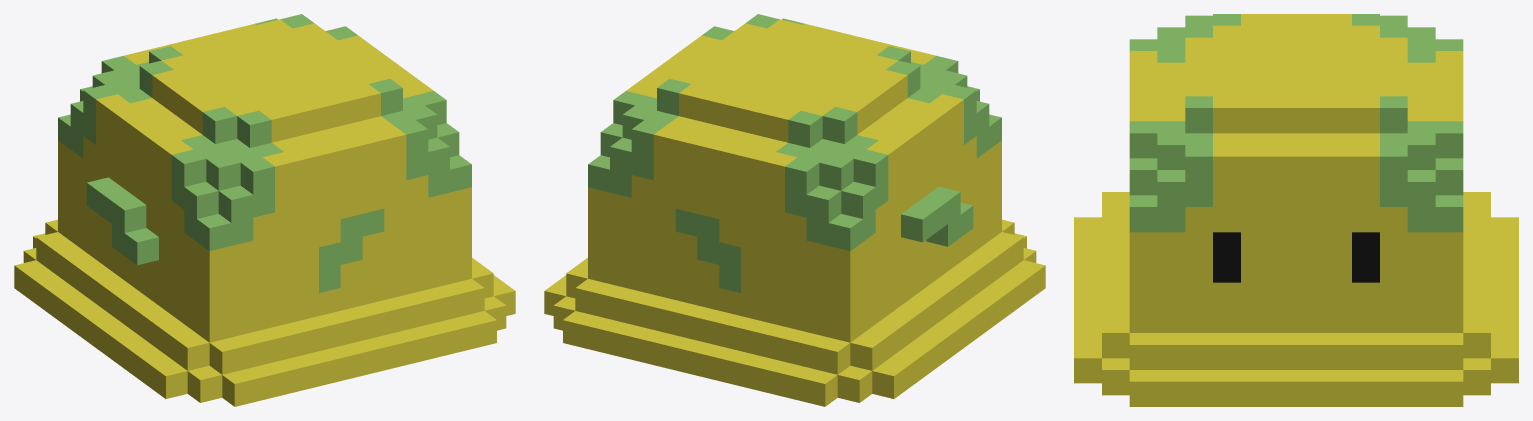
The model's file is slime4.obj.
3 views of the same model, side by side, from view 1: azimuth 30°, elevation 25°; view 2: azimuth 150°, elevation 25°; view 3: azimuth 270°, elevation 25° (orthographic). The views are drawn at different scales.
Size of the model in its own units: 1.6 by 1 by 1.6.
1 material, 1 textured.
